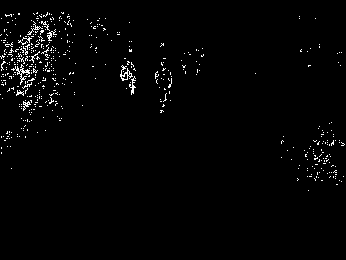person: (152, 56, 174, 115)
